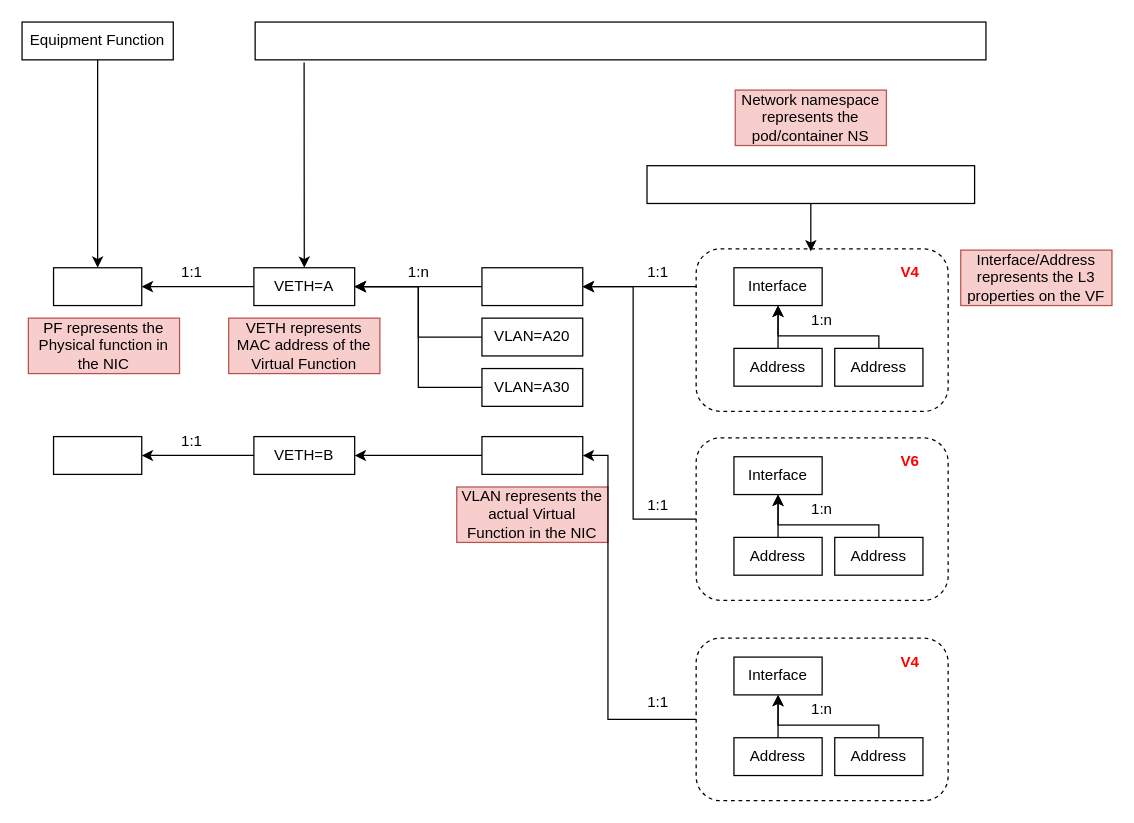
The diagram is 1134 pixels wide and 823 high, and some of its shapes have lost their labels. Here are the shapes that lost their labels. From the top down, the centre of each, then its label:
the point at 620,40: Network Function
the point at 810,183: Router/Network namespace
the point at 97,286: PF=A
the point at 532,286: VLAN=A10
the point at 97,454: PF=B
the point at 532,454: VLAN=B0
